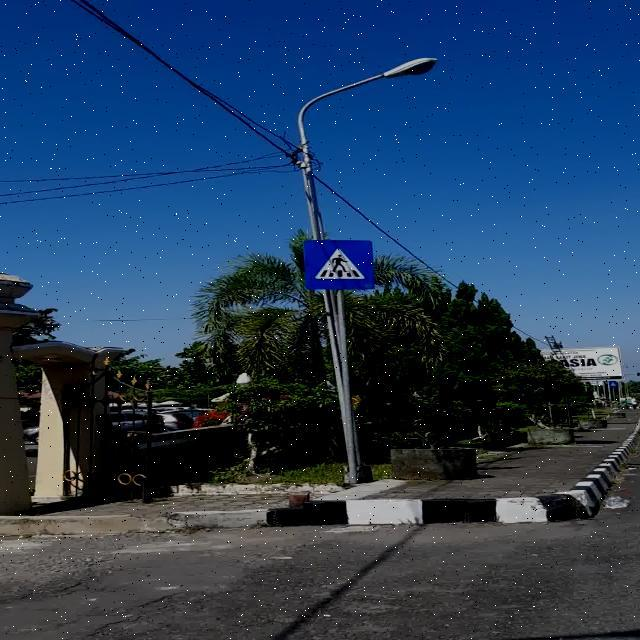Perintah Jalur Penyebrangan: (303, 240, 377, 290)
